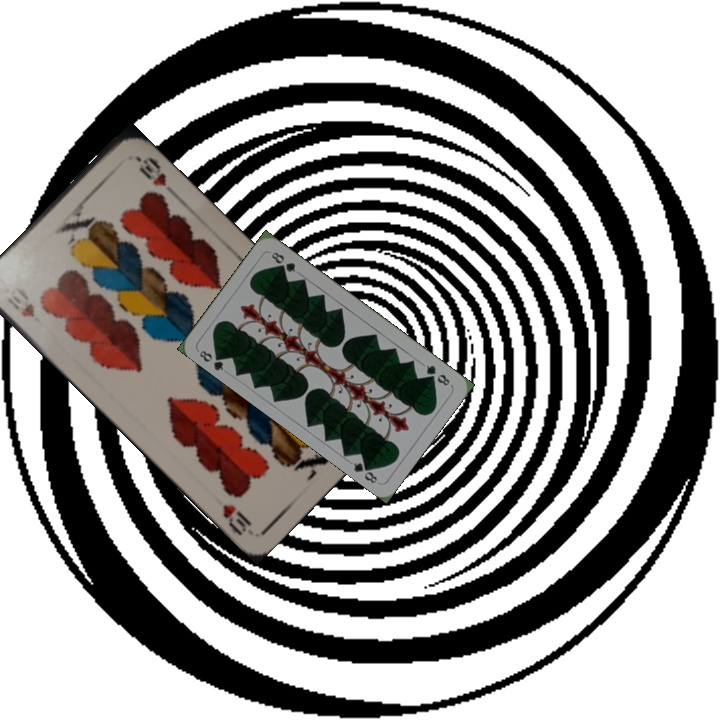G8: (195, 346, 227, 373), (422, 361, 453, 388)
H10: (3, 282, 37, 320)
